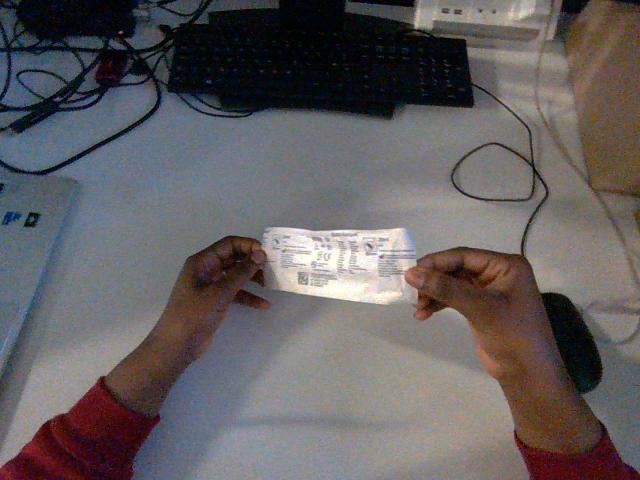syringe: (262, 227, 416, 304)
